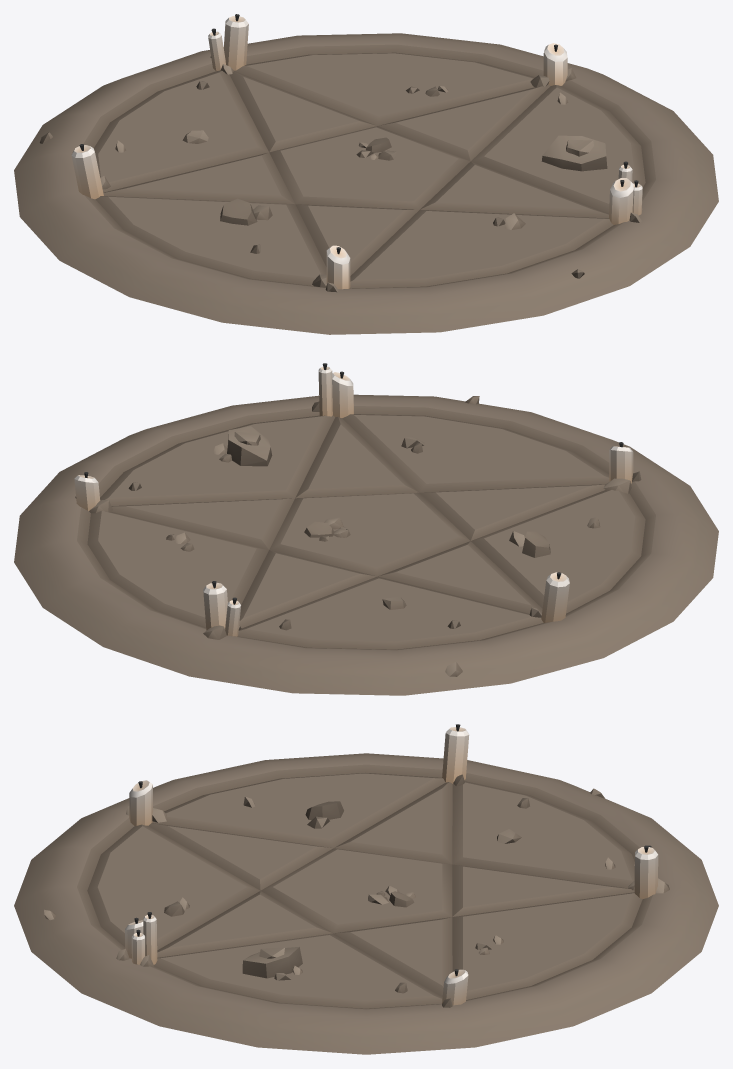
File: SummoningCircle.obj
3 renders of one model, top to bottom at view 1: azimuth 30°, elevation 25°; view 2: azimuth 150°, elevation 25°; view 3: azimuth 270°, elevation 25°, orthographic.
Parts seen in each view (by area): view 1: SummoningCircle; view 2: SummoningCircle; view 3: SummoningCircle.
Part boxes in pixels (bbox=[...]): SummoningCircle: bbox=[14, 14, 718, 334]; SummoningCircle: bbox=[14, 363, 718, 695]; SummoningCircle: bbox=[14, 724, 718, 1054].
Bounding box in the file's own units: 7.81 × 0.8138 × 7.81.
1 material, 1 textured.
